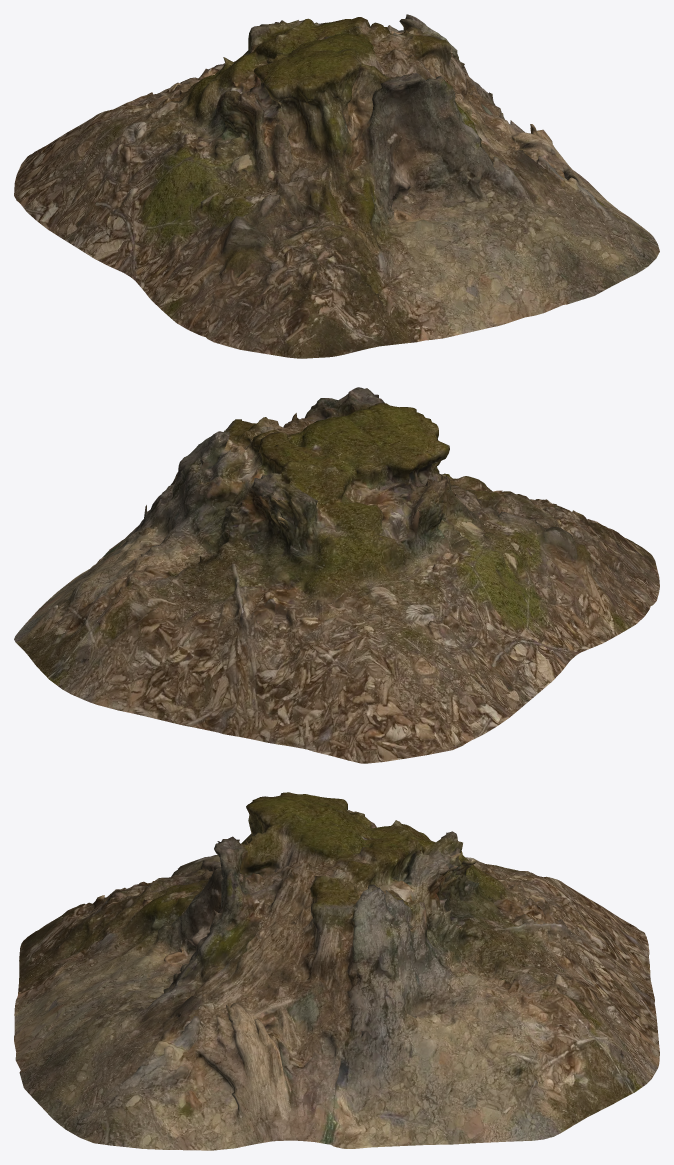
The model's file is stump.glb.
3 views of the same model, one above another, from view 1: azimuth 30°, elevation 25°; view 2: azimuth 150°, elevation 25°; view 3: azimuth 270°, elevation 25° (orthographic). The views are drawn at different scales.
Parts seen in each view (by area): view 1: tree_stump_01; view 2: tree_stump_01; view 3: tree_stump_01.
Boxes of the visible parts, left/top/right/bottom form: tree_stump_01: left=14, top=14, right=659, bottom=358; tree_stump_01: left=14, top=387, right=659, bottom=763; tree_stump_01: left=14, top=792, right=659, bottom=1150.
Bounding box in the file's own units: 1.43 × 0.5725 × 1.59.
1 material, 1 textured.
